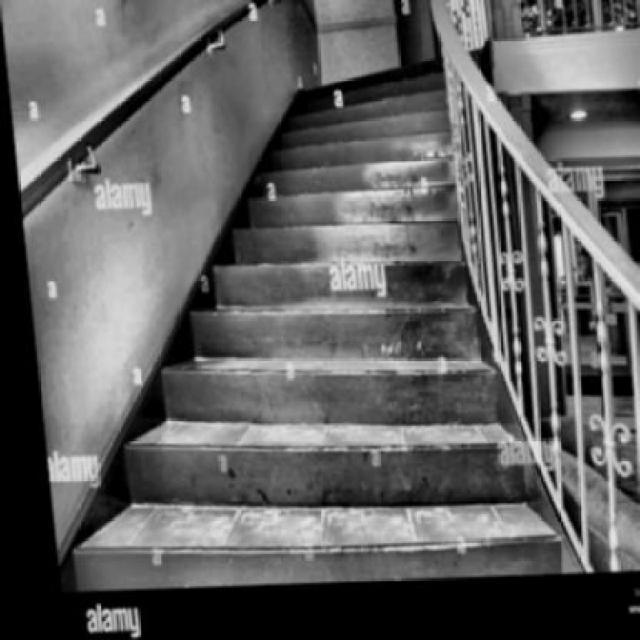stair: (23, 48, 560, 594)
